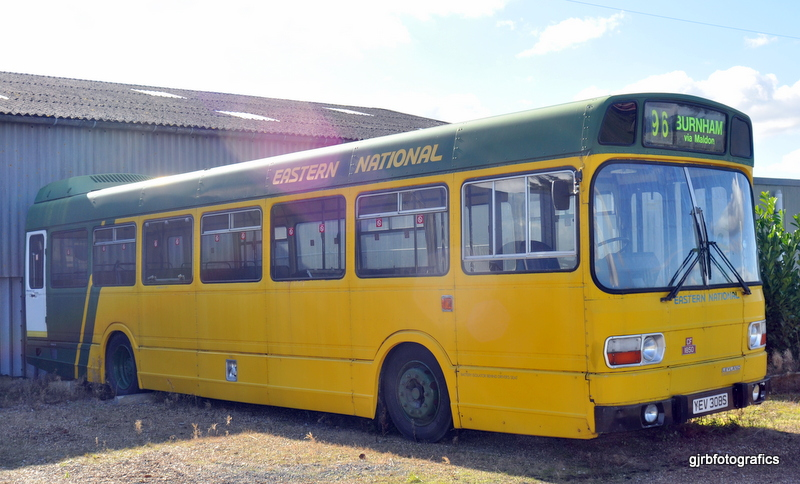bus: (25, 125, 772, 446)
